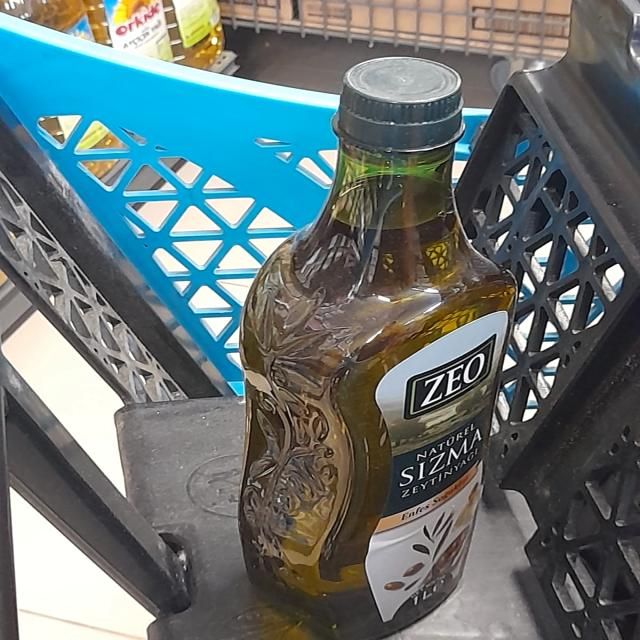olive oil: (237, 202, 519, 631)
